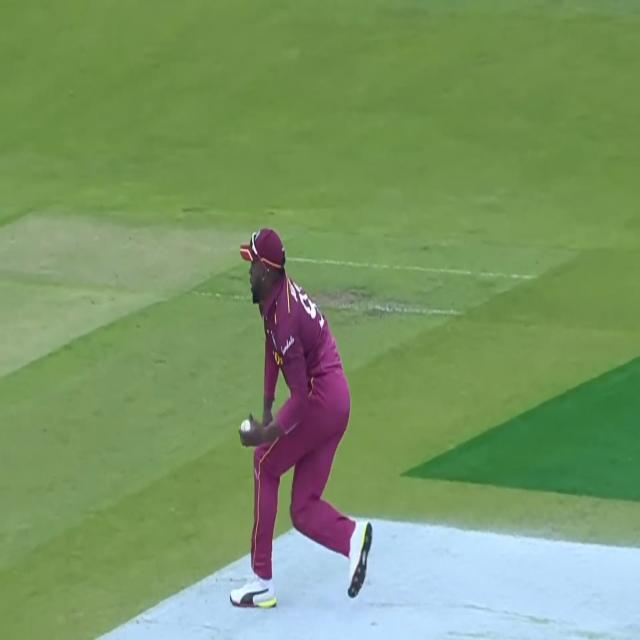ball: (238, 409, 256, 440)
